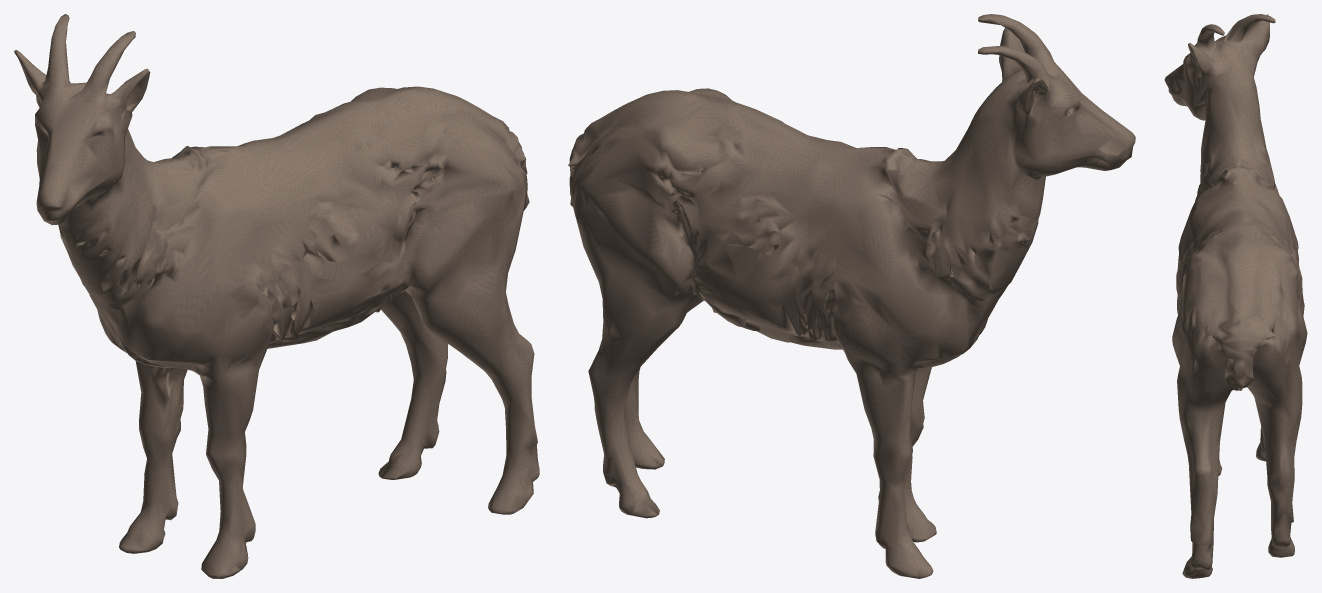
File: hlg-bluesheep.glb
3 views of the same model, side by side, from view 1: azimuth 30°, elevation 25°; view 2: azimuth 150°, elevation 25°; view 3: azimuth 270°, elevation 25° (orthographic). The views are drawn at different scales.
Visible parts, largest first — view 1: geometry_0; view 2: geometry_0; view 3: geometry_0.
Part boxes in pixels (x1,y1,x2,y2): geometry_0: (14,14,539,578); geometry_0: (568,14,1135,578); geometry_0: (1164,14,1307,578).
Bounding box in the file's own units: 45815 × 46130 × 14411.
1 material, 1 textured.
